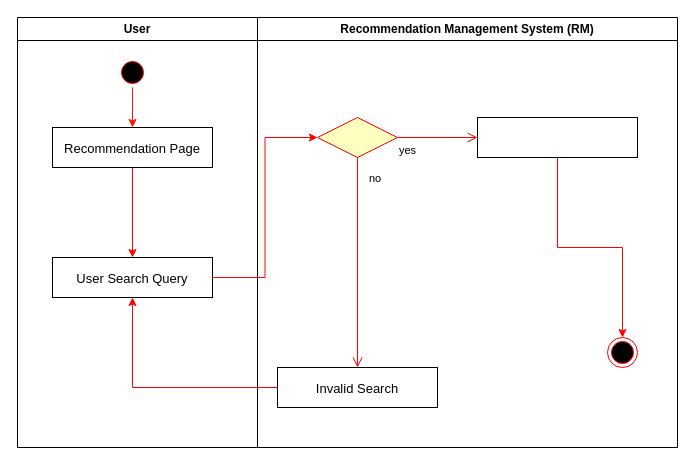
This 695x465 diagram has some shape labels left out. The shapes that lost their labels are listed below. From the top down, each one's centre as x and y in pixels, then its label:
[357,137]: Match
[557,137]: Return Top Matches List
